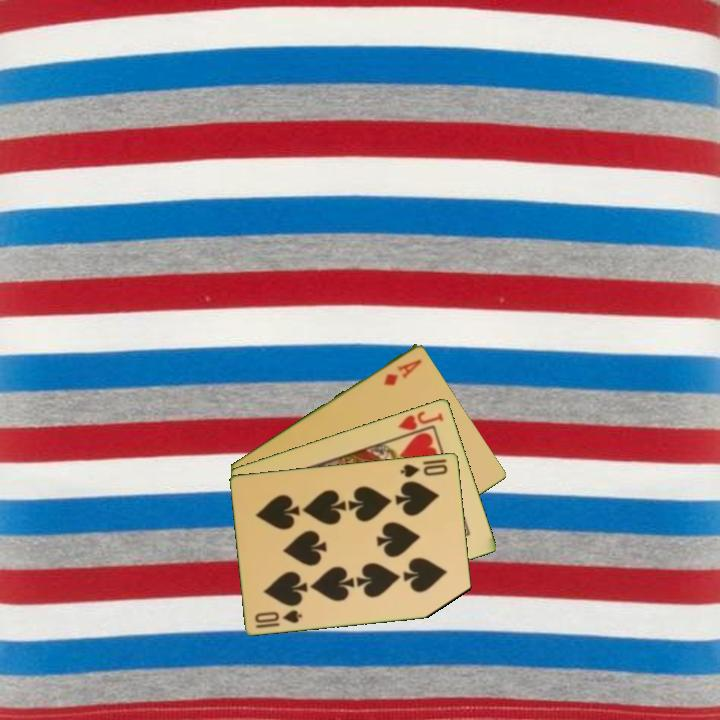10s: (252, 606, 305, 631), (397, 460, 450, 480)
Ad: (380, 355, 425, 388)
Jh: (394, 407, 446, 433)
